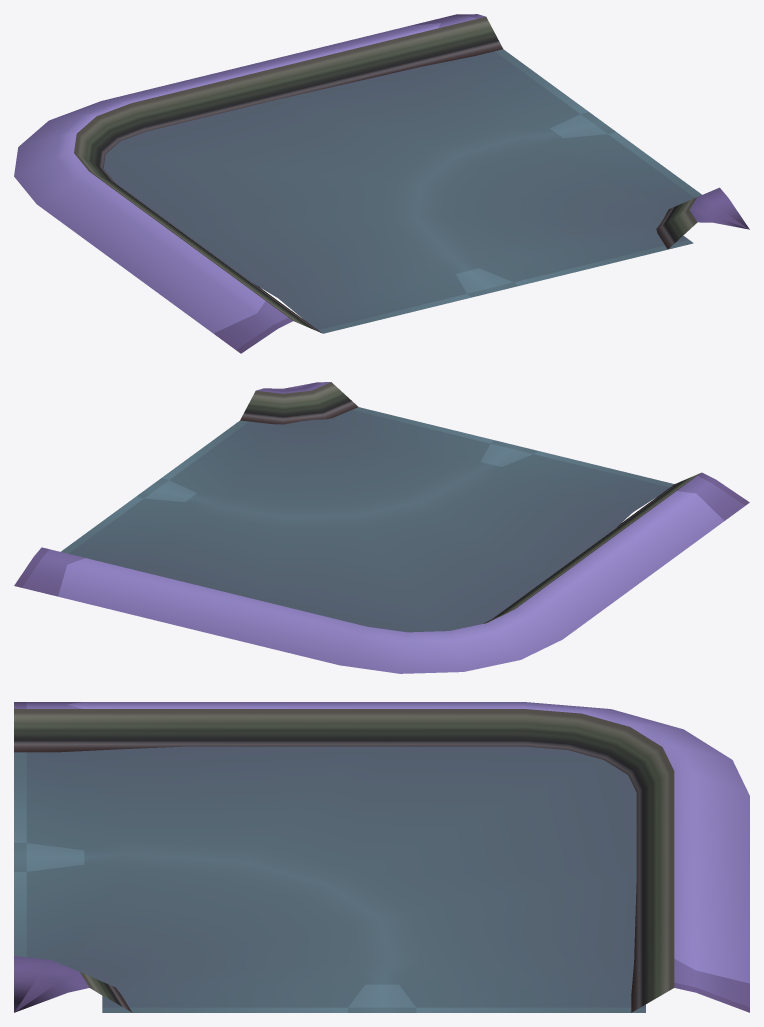
Rendered from Road_turn_90.fbx.
3 views of the same model, one above another, from view 1: azimuth 30°, elevation 25°; view 2: azimuth 150°, elevation 25°; view 3: azimuth 270°, elevation 25° (orthographic). The views are drawn at different scales.
Visible parts, largest first — view 1: Road_turn_90; view 2: Road_turn_90; view 3: Road_turn_90.
Boxes of the visible parts, box(x1,y1,x2,y2) form: Road_turn_90: box(14, 14, 749, 353); Road_turn_90: box(14, 382, 749, 673); Road_turn_90: box(14, 702, 749, 1012).
Size of the model in its own units: 100 by 3.75 by 100.
